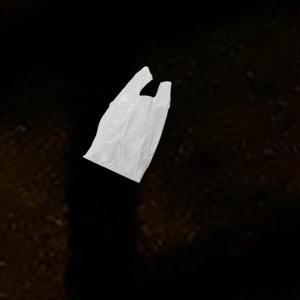plastic_bag: (82, 60, 176, 185)
